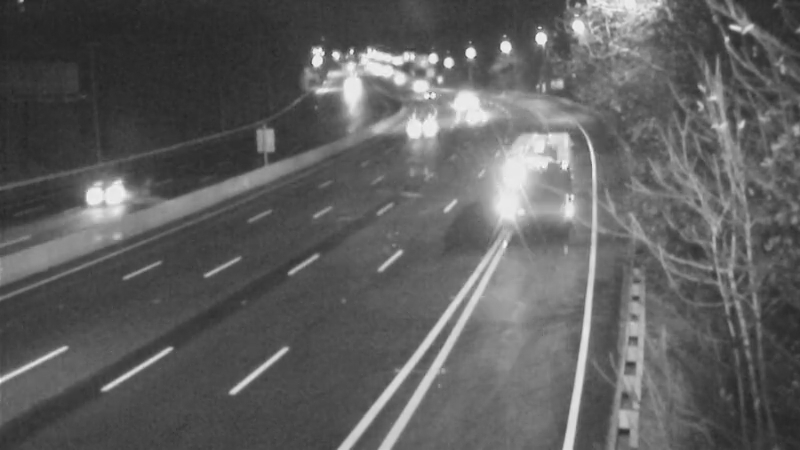vehicle: (483, 157, 563, 237), (68, 152, 148, 232), (377, 53, 427, 103), (392, 62, 442, 112), (408, 72, 458, 122), (438, 76, 488, 126), (455, 91, 505, 141), (405, 101, 455, 151), (323, 64, 373, 114)
